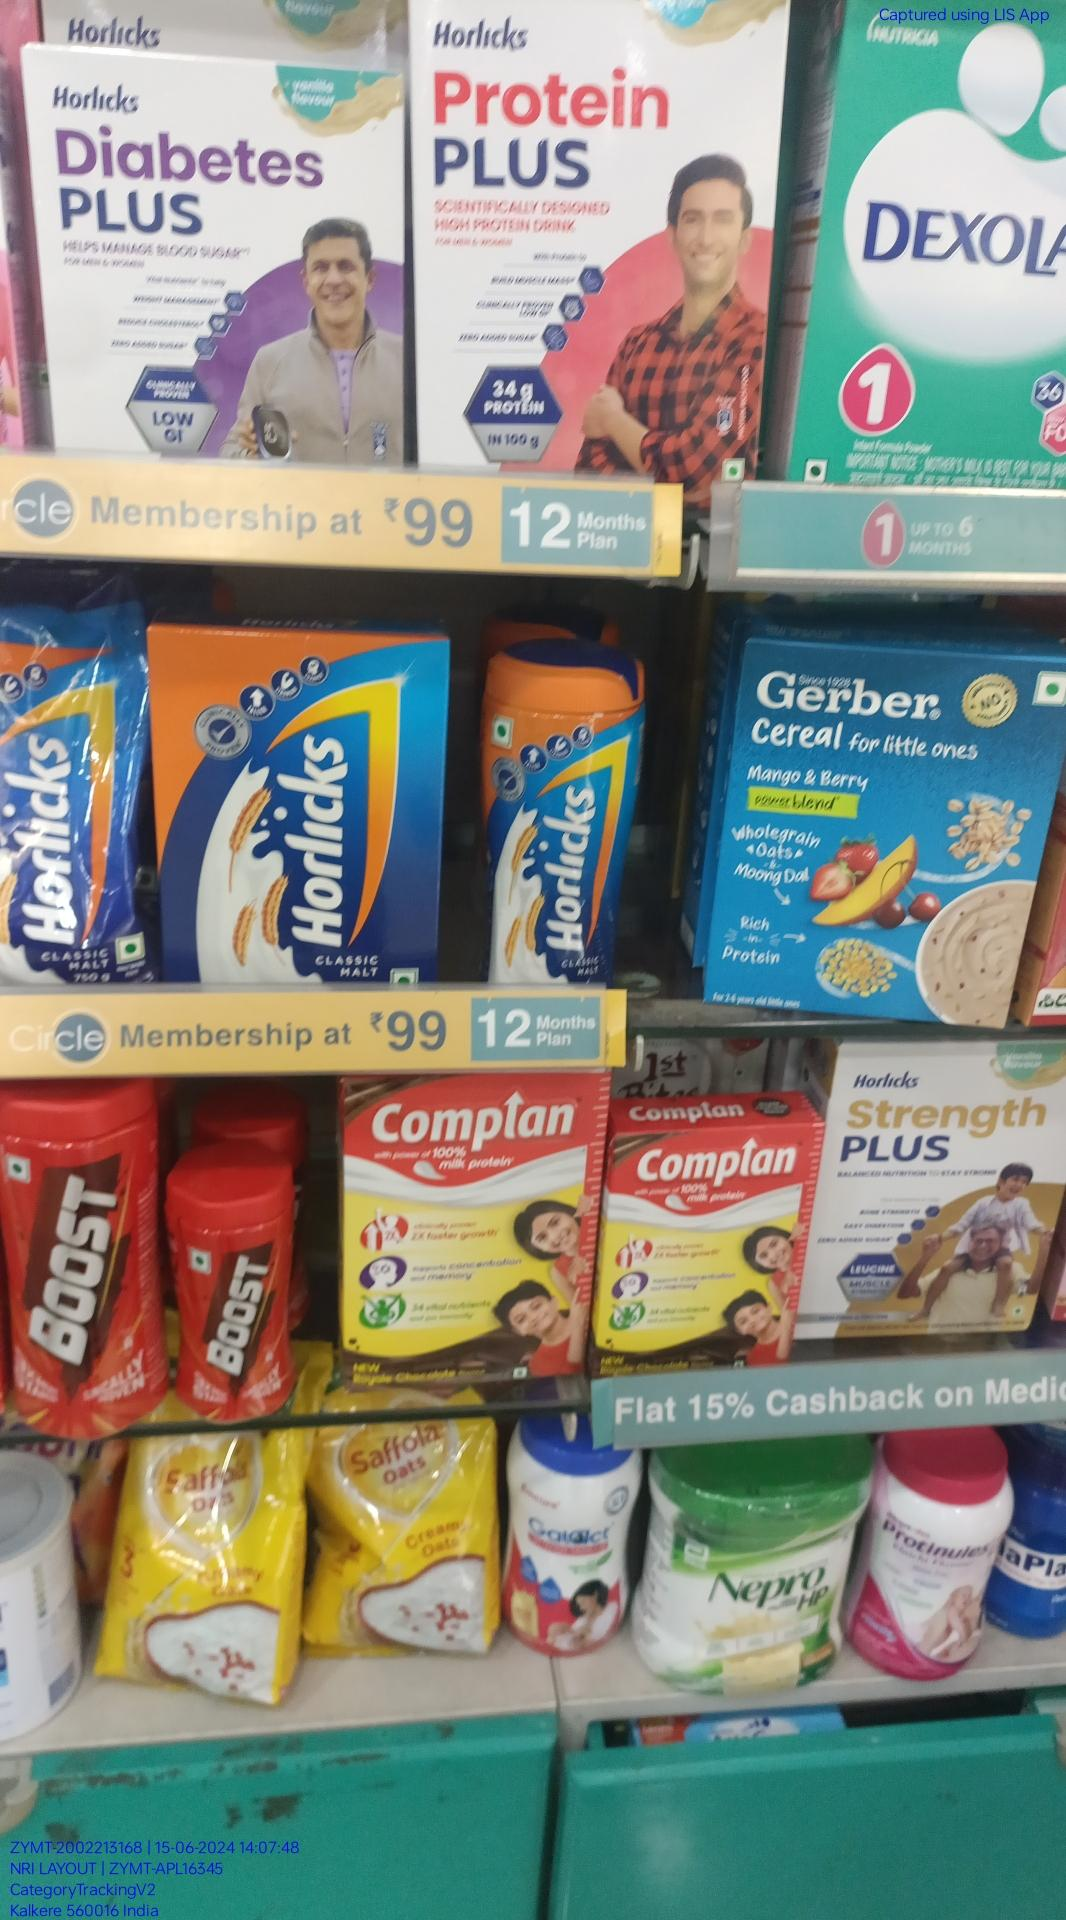COMPLAN_CHOCOLATE_200_GMS_PACK: (605, 1130, 790, 1360)
COMPLAN_CHOCOLATE_500_GMS_PACK: (340, 1077, 592, 1386)
HORLICK_CLASSIC_MALT_500_G_JAR: (480, 642, 633, 990)
HORLICK_CLASSIC_MALT_500_G_PACK: (143, 626, 437, 986)
